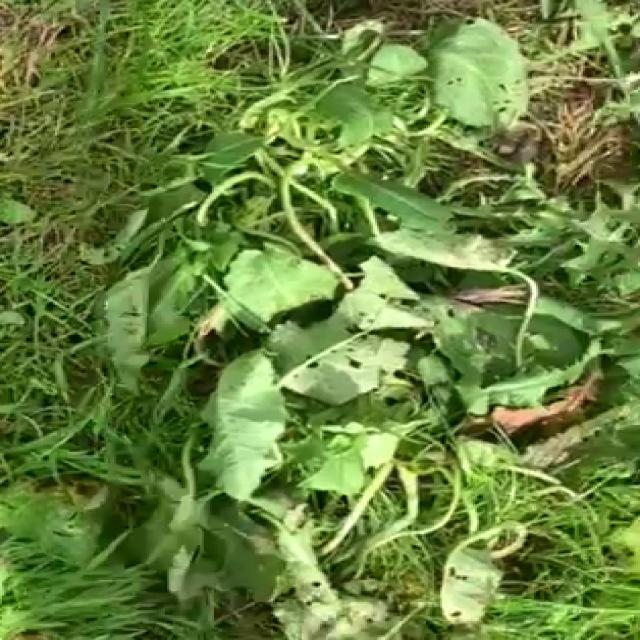organic waste: (73, 19, 634, 444), (59, 324, 579, 640)
